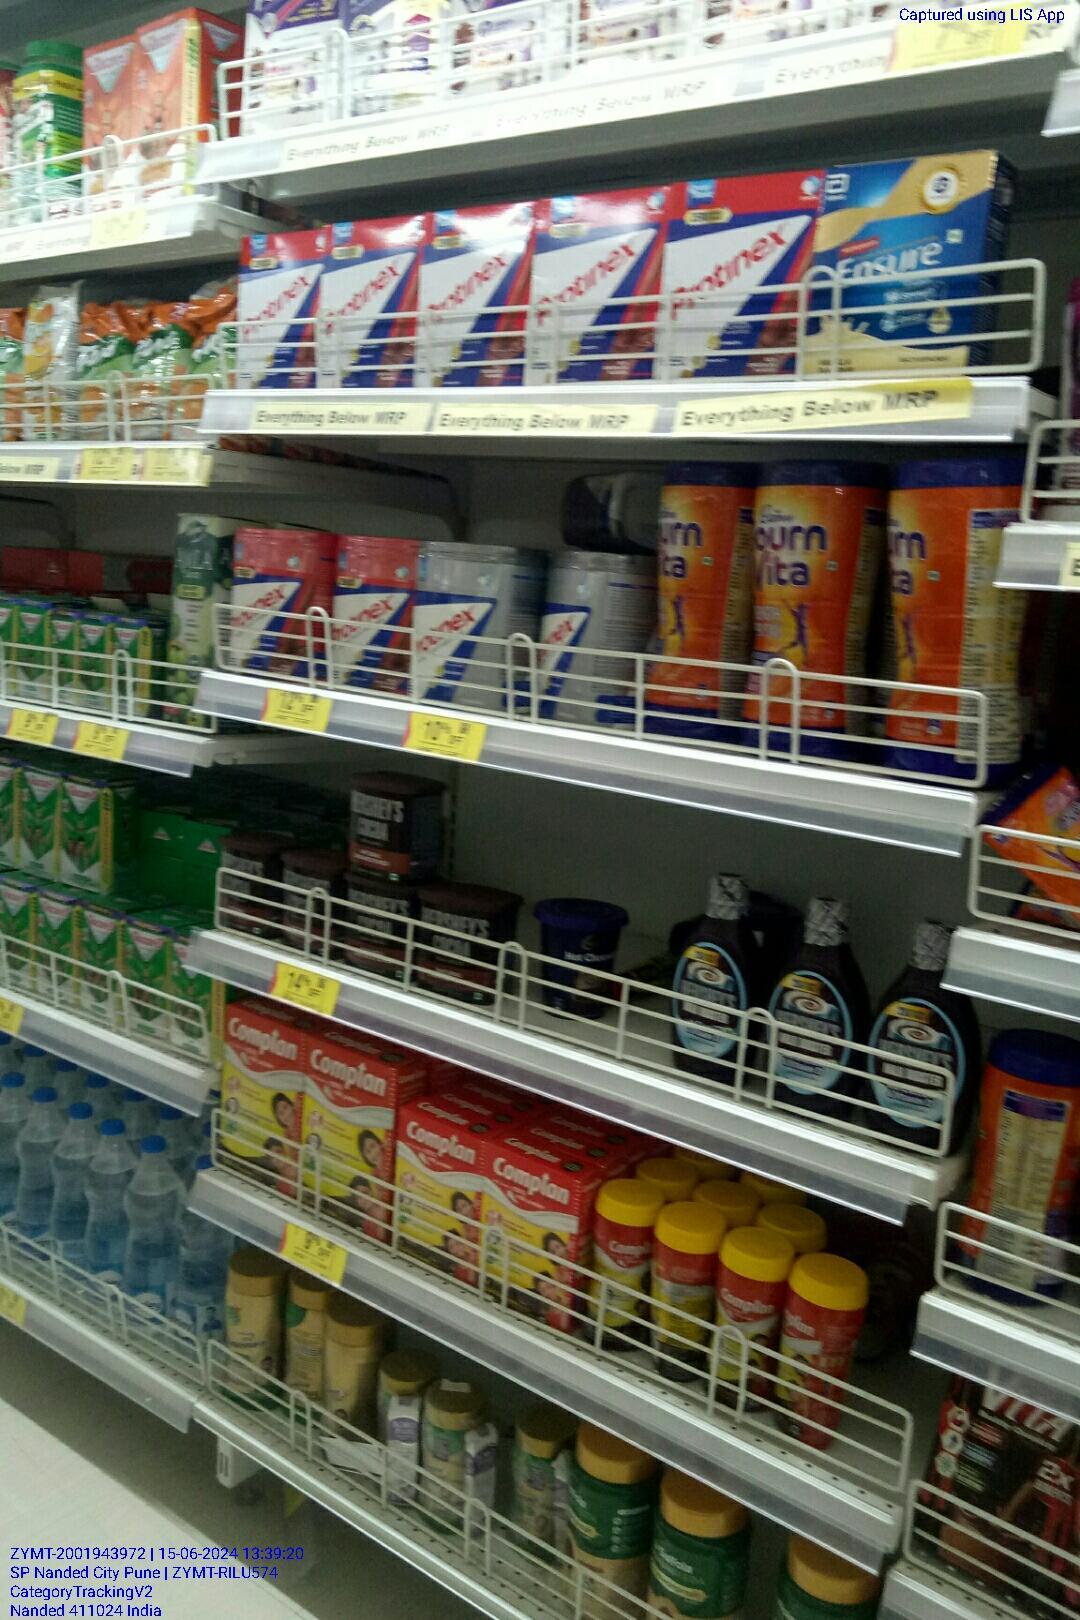COMPLAN_CHOCOLATE_200_GMS_PACK: (485, 1152, 573, 1333), (400, 1113, 481, 1280)
COMPLAN_CHOCOLATE_500_GMS_PACK: (301, 1040, 394, 1240), (217, 1009, 298, 1188)
ENSURE_VANILLA_400_G_PACK: (814, 157, 998, 374)
